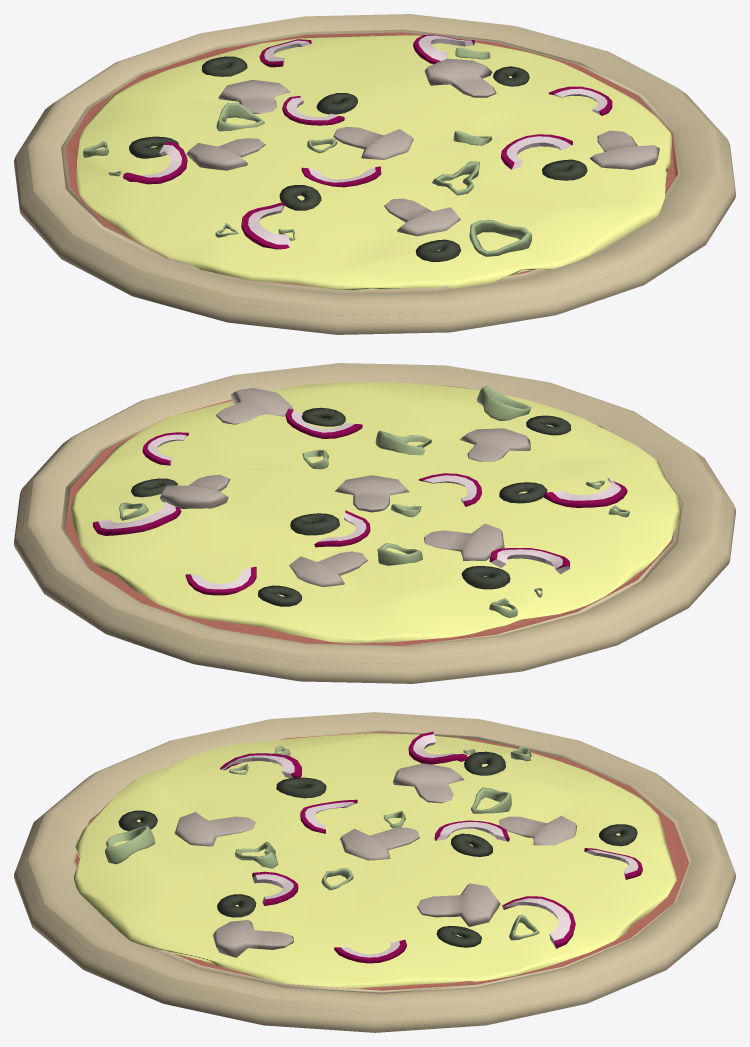
The model's file is thin_mushroom_onion.gltf.
The picture shows the model from 3 angles, top to bottom: view 1: azimuth 30°, elevation 25°; view 2: azimuth 150°, elevation 25°; view 3: azimuth 270°, elevation 25°; orthographic projection.
Parts seen in each view (by area): view 1: cheese, thin, polySurface128, polySurface162, polySurface129, polySurface163, polySurface130, polySurface161, polySurface174, polySurface210, polySurface209, polySurface214 (+14 smaller); view 2: cheese, thin, polySurface130, polySurface162, polySurface161, polySurface128, polySurface163, polySurface129, polySurface215, polySurface210, polySurface174, polySurface214 (+14 smaller); view 3: cheese, thin, polySurface128, polySurface162, polySurface130, polySurface163, polySurface129, polySurface161, polySurface215, polySurface174, polySurface214, polySurface210 (+14 smaller).
Boxes of the visible parts, left/top/right/bottom form: cheese: left=76, top=35, right=671, bottom=290; thin: left=14, top=14, right=735, bottom=334; polySurface128: left=424, top=58, right=496, bottom=97; polySurface162: left=590, top=130, right=659, bottom=169; polySurface129: left=384, top=198, right=460, bottom=236; polySurface163: left=333, top=127, right=413, bottom=159; polySurface130: left=186, top=138, right=265, bottom=170; polySurface161: left=218, top=79, right=290, bottom=113; polySurface174: left=469, top=220, right=532, bottom=256; polySurface210: left=241, top=201, right=290, bottom=249; polySurface209: left=501, top=134, right=572, bottom=169; polySurface214: left=123, top=141, right=187, bottom=184; cheese: left=69, top=382, right=681, bottom=643; thin: left=14, top=363, right=735, bottom=683; polySurface130: left=423, top=523, right=504, bottom=560; polySurface162: left=215, top=388, right=293, bottom=424; polySurface161: left=289, top=551, right=367, bottom=586; polySurface128: left=159, top=474, right=230, bottom=508; polySurface163: left=335, top=475, right=409, bottom=512; polySurface129: left=459, top=428, right=530, bottom=461; polySurface215: left=92, top=502, right=181, bottom=535; polySurface210: left=543, top=477, right=627, bottom=507; polySurface174: left=477, top=386, right=530, bottom=420; polySurface214: left=489, top=548, right=570, bottom=574; cheese: left=73, top=733, right=676, bottom=988; thin: left=14, top=712, right=735, bottom=1032; polySurface128: left=416, top=883, right=500, bottom=926; polySurface162: left=212, top=920, right=293, bottom=957; polySurface130: left=393, top=763, right=464, bottom=803; polySurface163: left=340, top=827, right=419, bottom=860; polySurface129: left=174, top=812, right=255, bottom=846; polySurface161: left=499, top=816, right=576, bottom=845; polySurface215: left=502, top=896, right=575, bottom=948; polySurface174: left=105, top=826, right=155, bottom=864; polySurface214: left=408, top=731, right=467, bottom=764; polySurface210: left=219, top=753, right=301, bottom=778.
Size of the model in its own units: 0.0974 by 0.00743 by 0.0974.
